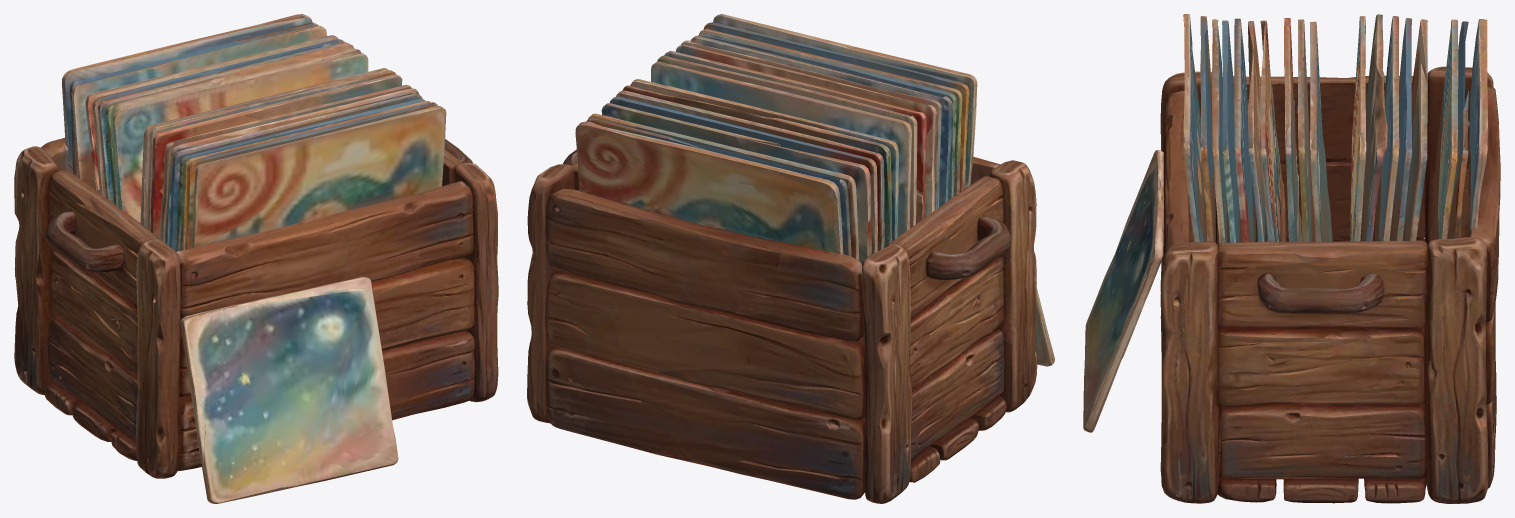
The model's file is crate.glb.
3 views of the same model, side by side, from view 1: azimuth 30°, elevation 25°; view 2: azimuth 150°, elevation 25°; view 3: azimuth 270°, elevation 25° (orthographic). The views are drawn at different scales.
Visible parts, largest first — view 1: Mesh_0; view 2: Mesh_0; view 3: Mesh_0.
Boxes of the visible parts, x1,y1,x2,y2 form: Mesh_0: (14,14,498,503); Mesh_0: (527,14,1054,503); Mesh_0: (1083,14,1500,503).
Bounding box in the file's own units: 1.9 × 1.39 × 1.55.
1 material, 1 textured.
